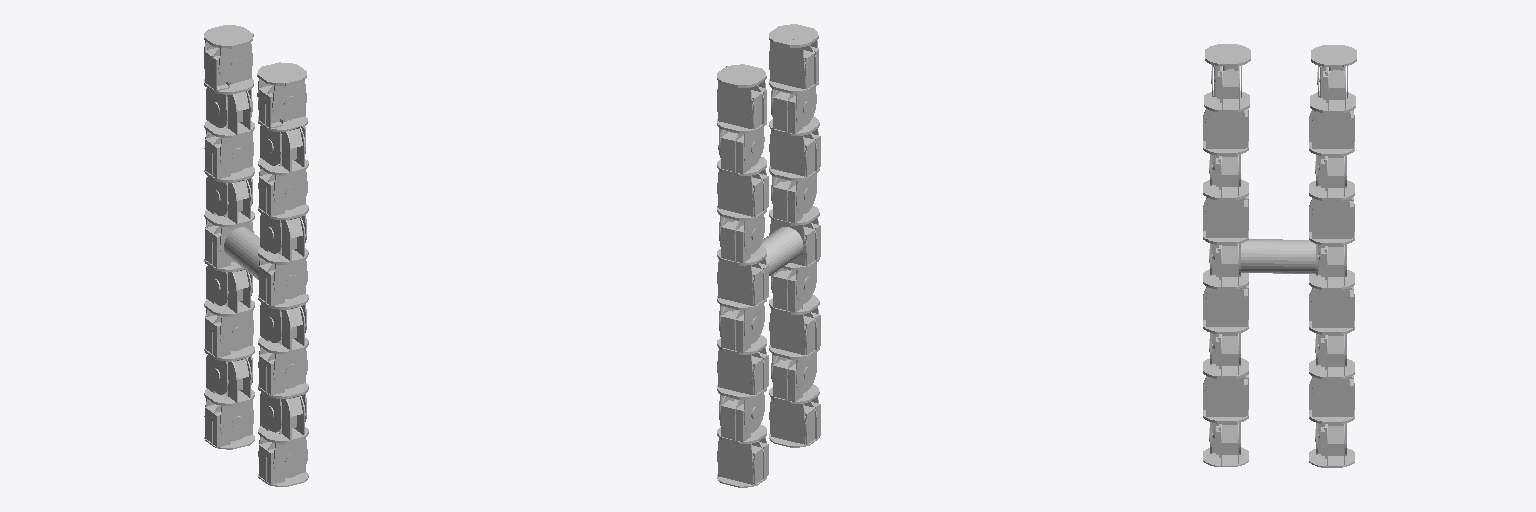
The model's file is myRobotCorretto.obj.
The picture shows the model from 3 angles: view 1: azimuth 30°, elevation 25°; view 2: azimuth 150°, elevation 25°; view 3: azimuth 270°, elevation 25°; orthographic projection.
Parts seen in each view (by area): view 1: snake_body6_respondable_right_snake_body6_respondable.001, snake_body1_respondable_right_snake_body3_respondable.002, snake_body1_respondable_left_snake_body3_respondable.001, snake_body7_respondable_left_snake_body7_respondable, snake_body9_respondable_left_snake_body9_respondable, snake_body5_respondable_right_snake_body5_respondable.001, snake_body7_respondable_right_snake_body7_respondable.001, snake_body3_respondable_right_snake_body3_respondable.003, snake_body9_respondable_right_snake_body9_respondable.001, snake_body3_respondable_left_snake_body3_respondable, snake_body2_left_snake_body4.001, snake_body2_right_snake_body4.002 (+11 smaller); view 2: snake_body6_respondable_right_snake_body6_respondable.001, snake_body7_respondable_left_snake_body7_respondable, snake_body7_respondable_right_snake_body7_respondable.001, snake_body9_respondable_left_snake_body9_respondable, snake_body9_respondable_right_snake_body9_respondable.001, snake_body3_respondable_right_snake_body3_respondable.003, snake_body3_respondable_left_snake_body3_respondable, snake_body1_respondable_right_snake_body3_respondable.002, snake_body1_respondable_left_snake_body3_respondable.001, snake_body2_right_snake_body4.002, snake_body2_left_snake_body4.001, snake_body4_respondable_right_snake_body4_respondable.002 (+6 smaller); view 3: snake_body6_respondable_right_snake_body6_respondable.001, snake_body2_left_snake_body4.001, snake_body2_right_snake_body4.002, snake_body4_respondable_left_snake_body4_respondable, snake_body8_respondable_left_snake_body8_respondable, snake_body8_respondable_right_snake_body8_respondable.001, snake_body4_respondable_right_snake_body4_respondable.002, snake_body10_respondable_left_snake_body10_respondable, snake_body10_respondable_right_snake_body10_respondable.002, snake_body1_respondable_right_snake_body3_respondable.002, snake_body1_respondable_left_snake_body3_respondable.001, snake_body9_respondable_left_snake_body9_respondable (+5 smaller).
Part boxes in pixels (x1,y1,x2,y2): snake_body6_respondable_right_snake_body6_respondable.001: (204, 178, 308, 342); snake_body1_respondable_right_snake_body3_respondable.002: (257, 62, 306, 120); snake_body1_respondable_left_snake_body3_respondable.001: (204, 25, 253, 82); snake_body7_respondable_left_snake_body7_respondable: (205, 267, 254, 350); snake_body9_respondable_left_snake_body9_respondable: (205, 356, 254, 440); snake_body5_respondable_right_snake_body5_respondable.001: (258, 215, 307, 298); snake_body7_respondable_right_snake_body7_respondable.001: (258, 305, 307, 388); snake_body3_respondable_right_snake_body3_respondable.003: (258, 126, 307, 209); snake_body9_respondable_right_snake_body9_respondable.001: (258, 394, 307, 477); snake_body3_respondable_left_snake_body3_respondable: (205, 88, 254, 172); snake_body2_left_snake_body4.001: (204, 45, 253, 127); snake_body2_right_snake_body4.002: (258, 82, 307, 165); snake_body6_respondable_right_snake_body6_respondable.001: (717, 178, 820, 343); snake_body7_respondable_left_snake_body7_respondable: (717, 307, 766, 389); snake_body7_respondable_right_snake_body7_respondable.001: (769, 268, 818, 349); snake_body9_respondable_left_snake_body9_respondable: (717, 396, 766, 478); snake_body9_respondable_right_snake_body9_respondable.001: (769, 356, 818, 438); snake_body3_respondable_right_snake_body3_respondable.003: (769, 90, 818, 170); snake_body3_respondable_left_snake_body3_respondable: (717, 130, 766, 210); snake_body1_respondable_right_snake_body3_respondable.002: (769, 24, 818, 82); snake_body1_respondable_left_snake_body3_respondable.001: (717, 64, 766, 122); snake_body2_right_snake_body4.002: (769, 46, 818, 126); snake_body2_left_snake_body4.001: (717, 86, 766, 166); snake_body4_respondable_right_snake_body4_respondable.002: (769, 133, 820, 213); snake_body6_respondable_right_snake_body6_respondable.001: (1203, 197, 1354, 325); snake_body2_left_snake_body4.001: (1310, 66, 1355, 148); snake_body2_right_snake_body4.002: (1204, 65, 1249, 147); snake_body4_respondable_left_snake_body4_respondable: (1309, 155, 1354, 236); snake_body8_respondable_left_snake_body8_respondable: (1309, 334, 1354, 414); snake_body8_respondable_right_snake_body8_respondable.001: (1203, 333, 1248, 414); snake_body4_respondable_right_snake_body4_respondable.002: (1203, 155, 1248, 235); snake_body10_respondable_left_snake_body10_respondable: (1309, 423, 1354, 467); snake_body10_respondable_right_snake_body10_respondable.002: (1203, 423, 1248, 466); snake_body1_respondable_right_snake_body3_respondable.002: (1205, 44, 1250, 97); snake_body1_respondable_left_snake_body3_respondable.001: (1311, 45, 1356, 98); snake_body9_respondable_left_snake_body9_respondable: (1309, 375, 1354, 448).
Size of the model in its own units: 0.0733 by 0.6838 by 0.2365.